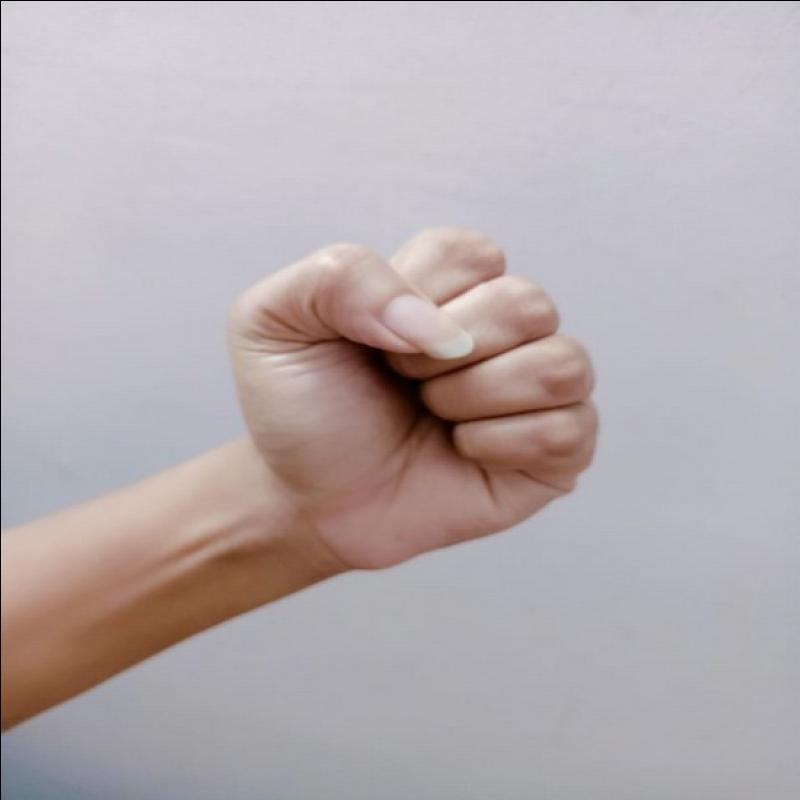Mushti: (215, 206, 615, 596)
